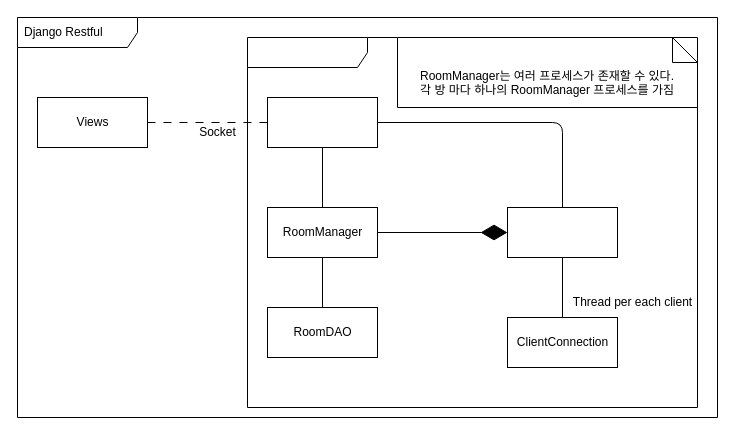
Image size: 735x435. Some labels were removed from this diagram. The shapes that lost their labels are listed below. From the top down, each one's box as (x1, y1, x2, y2) in pixels, then its label:
(266, 96, 378, 148): DjangoConnection
(246, 36, 698, 408): RoomServer
(506, 206, 618, 258): GameManager
